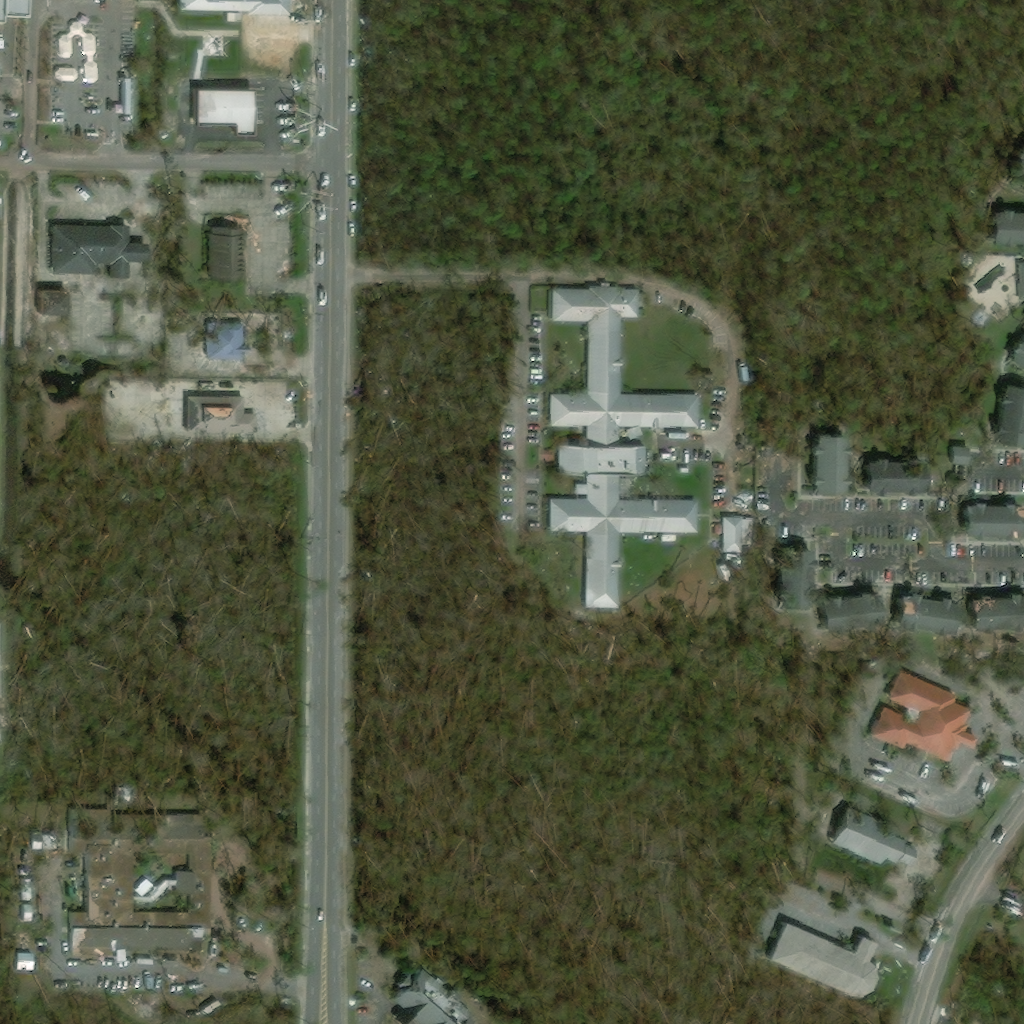minor_damage: (67, 808, 212, 958), (888, 593, 953, 633), (35, 289, 67, 316)
no_damage: (545, 285, 697, 610), (867, 669, 977, 762), (764, 919, 878, 995), (47, 223, 147, 281), (827, 804, 918, 866), (386, 968, 473, 1023), (190, 87, 253, 136), (205, 217, 244, 278), (805, 433, 841, 493), (858, 459, 921, 493), (990, 386, 1023, 449), (773, 554, 812, 607), (957, 503, 1016, 538), (178, 0, 285, 15), (205, 321, 245, 361), (985, 209, 1023, 242), (1001, 330, 1023, 376), (720, 514, 740, 551), (947, 444, 971, 465), (0, 0, 19, 26), (224, 14, 241, 22)
unclassified: (1006, 145, 1023, 188)
